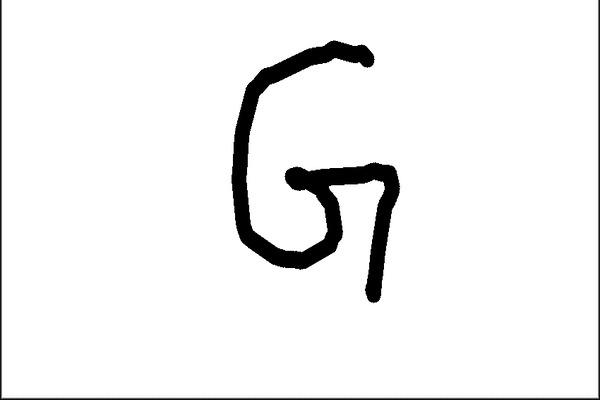G: (226, 37, 403, 304)
